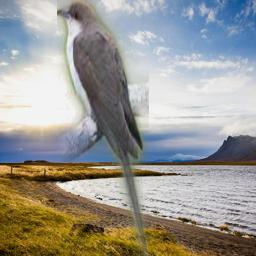Cuckoo: (57, 0, 149, 256)
